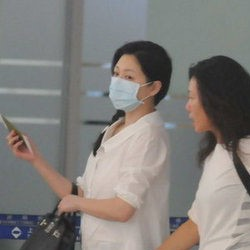mask: (102, 63, 153, 115)
